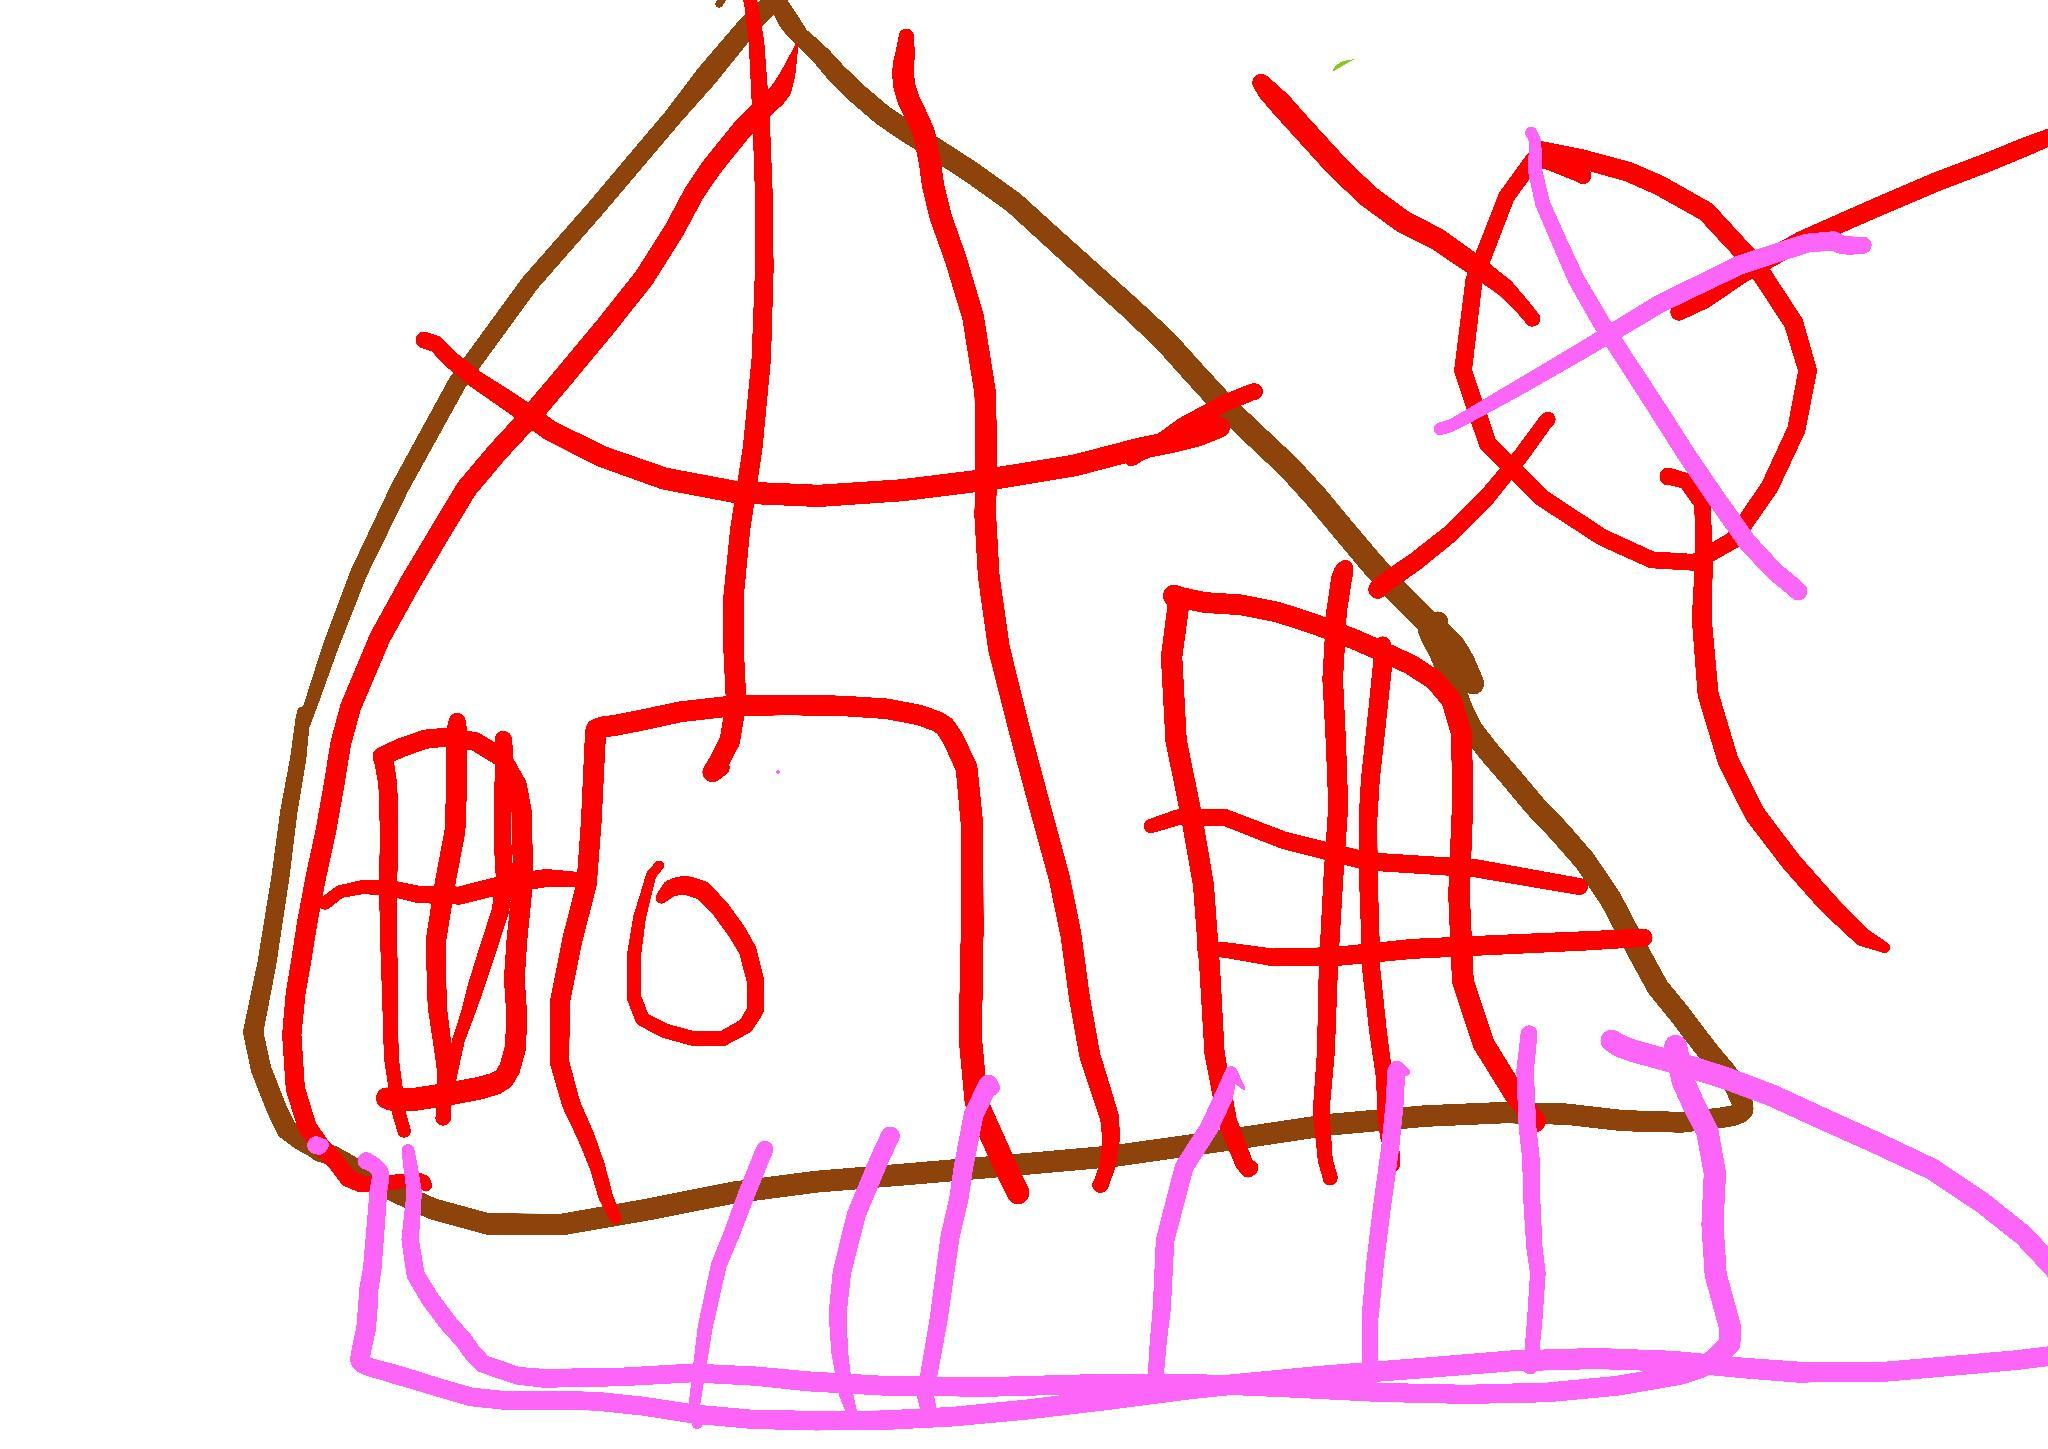door: (538, 677, 1033, 1229)
house: (227, 0, 1764, 1245)
roof: (444, 0, 1265, 511)
wall: (227, 358, 1769, 1239)
window: (1149, 574, 1556, 1159), (372, 715, 543, 1124)
